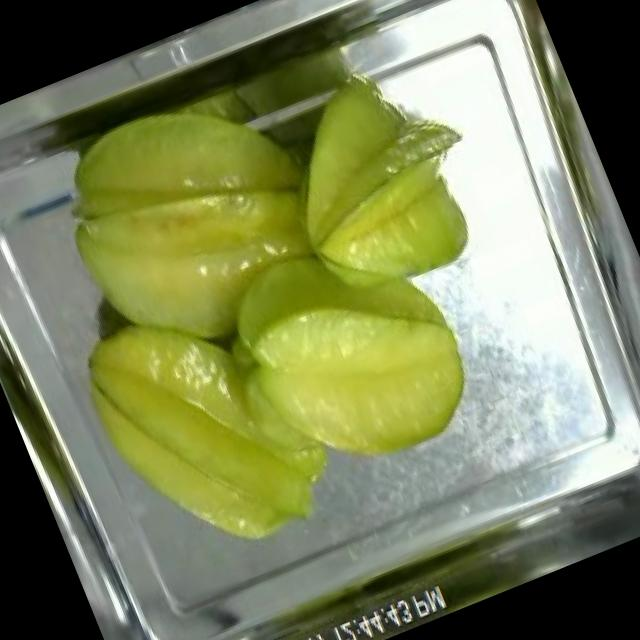fruit: (49, 178, 511, 580), (16, 40, 378, 392), (244, 36, 515, 326)
